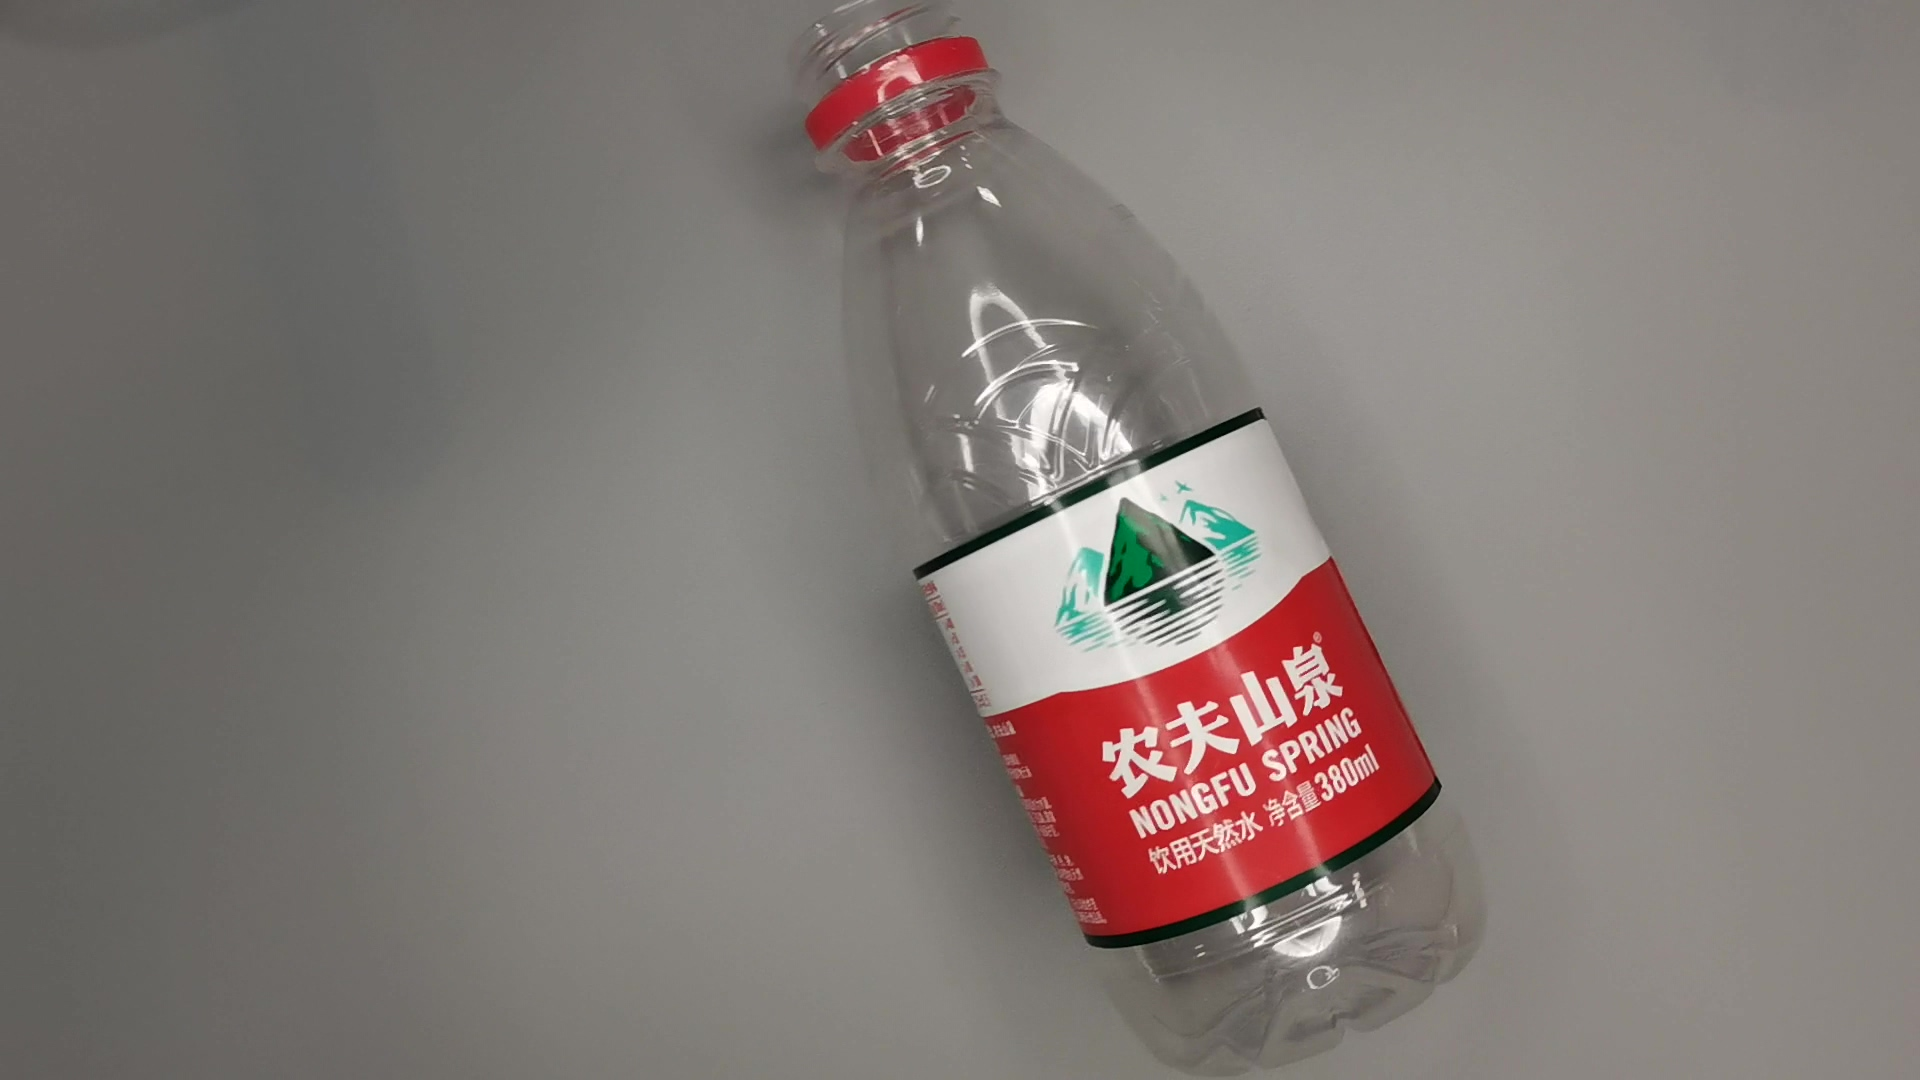bottle: (782, 3, 1501, 1080)
